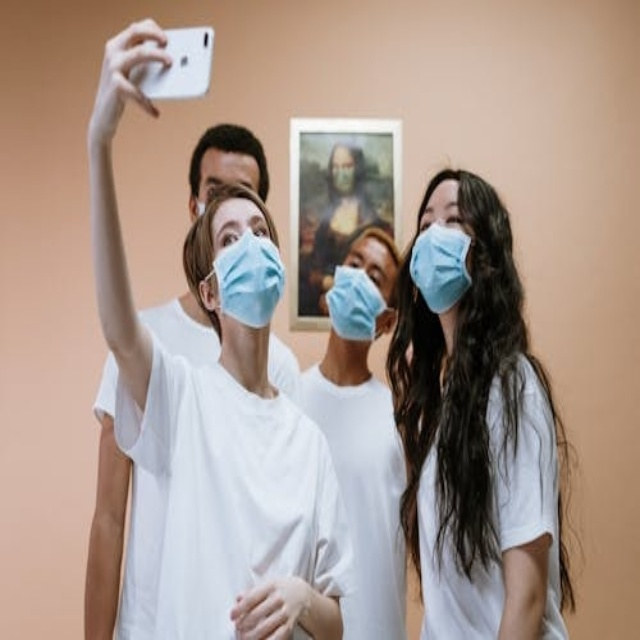Mascara: (211, 230, 285, 328), (409, 222, 474, 314), (325, 266, 390, 342), (331, 166, 355, 194), (195, 198, 207, 217)
Sin_gafas: (344, 246, 390, 294), (417, 202, 470, 240), (215, 217, 271, 250)
Sin_guantes: (97, 16, 176, 126), (233, 574, 316, 640)
